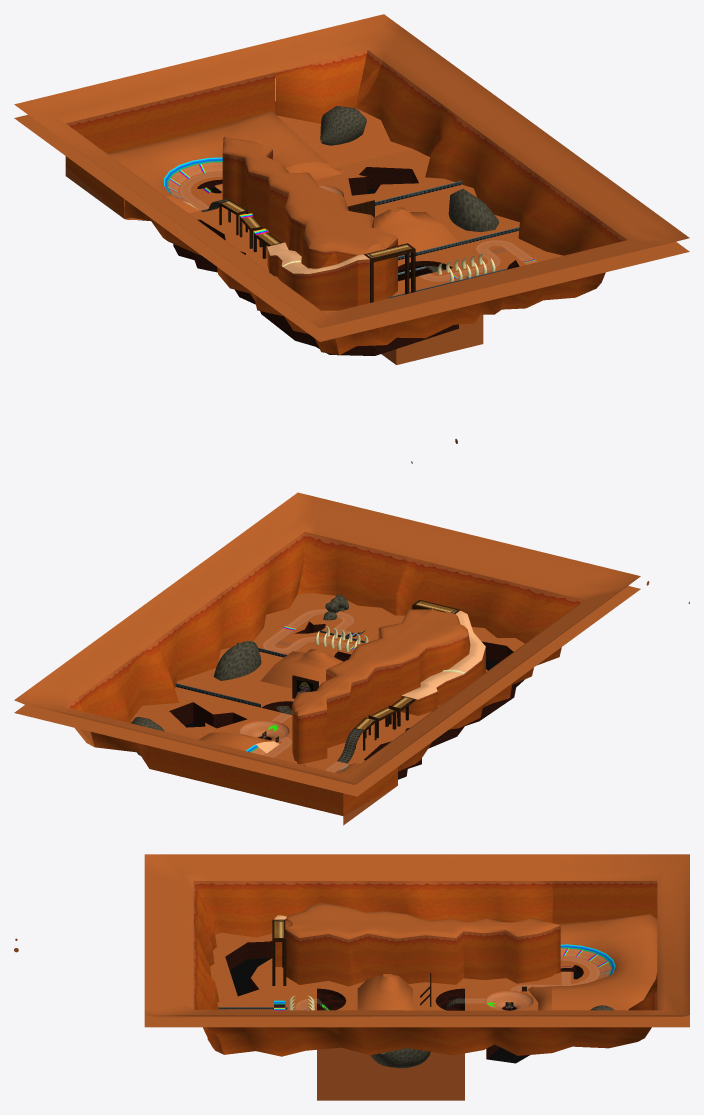
The picture shows the model from 3 angles, top to bottom: view 1: azimuth 30°, elevation 25°; view 2: azimuth 150°, elevation 25°; view 3: azimuth 270°, elevation 25°; orthographic projection. The views are drawn at different scales.
Parts seen in each view (by area): view 1: Wario_sCopperChase-SKP--Material6.001, Wario_sCopperChase-SKP--Material9.001, Wario_sCopperChase-SKP--Default_Material.001, Wario_sCopperChase-SKP--Material16.001, Wario_sCopperChase-SKP--Material23.001, Wario_sCopperChase-SKP--Material5.001, Wario_sCopperChase-SKP--Material14.001, Wario_sCopperChase-SKP--Material17.001, Wario_sCopperChase-SKP--Material21.001, Wario_sCopperChase-SKP--Material13.001; view 2: Wario_sCopperChase-SKP--Material6.001, Wario_sCopperChase-SKP--Material9.001, Wario_sCopperChase-SKP--Default_Material.001, Wario_sCopperChase-SKP--Material16.001, Wario_sCopperChase-SKP--Material5.001, Wario_sCopperChase-SKP--Material23.001, Wario_sCopperChase-SKP--Material21.001, Wario_sCopperChase-SKP--Material13.001, Wario_sCopperChase-SKP--Material14.001, Wario_sCopperChase-SKP--Material17.001, Wario_sCopperChase-SKP--Material20.001, Wario_sCopperChase-SKP--Material11.001 (+1 smaller); view 3: Wario_sCopperChase-SKP--Material6.001, Wario_sCopperChase-SKP--Material9.001, Wario_sCopperChase-SKP--Default_Material.001, Wario_sCopperChase-SKP--Material5.001, Wario_sCopperChase-SKP--Material16.001, Wario_sCopperChase-SKP--Material8.001, Wario_sCopperChase-SKP--Material23.001, Wario_sCopperChase-SKP--Material19.001.
Boxes of the visible parts, <box> form: Wario_sCopperChase-SKP--Material6.001: <box>14,14,689,328</box>; Wario_sCopperChase-SKP--Material9.001: <box>65,50,626,355</box>; Wario_sCopperChase-SKP--Default_Material.001: <box>14,115,689,463</box>; Wario_sCopperChase-SKP--Material16.001: <box>173,167,519,355</box>; Wario_sCopperChase-SKP--Material23.001: <box>320,106,499,231</box>; Wario_sCopperChase-SKP--Material5.001: <box>168,162,538,281</box>; Wario_sCopperChase-SKP--Material14.001: <box>219,200,415,302</box>; Wario_sCopperChase-SKP--Material17.001: <box>375,181,519,298</box>; Wario_sCopperChase-SKP--Material21.001: <box>182,201,369,273</box>; Wario_sCopperChase-SKP--Material13.001: <box>219,200,415,262</box>; Wario_sCopperChase-SKP--Material6.001: <box>14,492,640,784</box>; Wario_sCopperChase-SKP--Material9.001: <box>66,532,584,816</box>; Wario_sCopperChase-SKP--Default_Material.001: <box>14,581,689,825</box>; Wario_sCopperChase-SKP--Material16.001: <box>169,621,524,779</box>; Wario_sCopperChase-SKP--Material5.001: <box>239,609,358,772</box>; Wario_sCopperChase-SKP--Material23.001: <box>131,594,348,755</box>; Wario_sCopperChase-SKP--Material21.001: <box>256,610,485,770</box>; Wario_sCopperChase-SKP--Material13.001: <box>275,600,460,742</box>; Wario_sCopperChase-SKP--Material14.001: <box>354,608,415,750</box>; Wario_sCopperChase-SKP--Material17.001: <box>175,630,364,707</box>; Wario_sCopperChase-SKP--Material20.001: <box>315,626,465,673</box>; Wario_sCopperChase-SKP--Material11.001: <box>356,601,457,729</box>; Wario_sCopperChase-SKP--Material6.001: <box>144,854,689,1017</box>; Wario_sCopperChase-SKP--Material9.001: <box>193,881,657,1056</box>; Wario_sCopperChase-SKP--Default_Material.001: <box>14,938,689,1100</box>; Wario_sCopperChase-SKP--Material5.001: <box>295,948,611,1010</box>; Wario_sCopperChase-SKP--Material16.001: <box>225,941,583,1058</box>; Wario_sCopperChase-SKP--Material8.001: <box>230,958,582,1063</box>; Wario_sCopperChase-SKP--Material23.001: <box>370,1005,614,1068</box>; Wario_sCopperChase-SKP--Material19.001: <box>274,944,615,1004</box>.
Size of the model in its own units: 121430 by 46996 by 215581.
27 materials, 27 textured.
